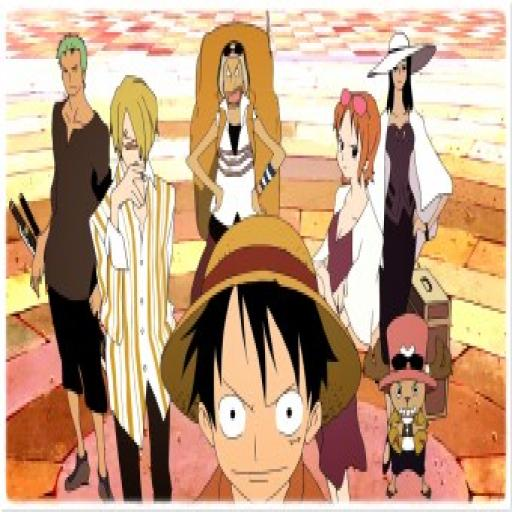Luffy: (154, 209, 360, 512)
Nami: (327, 86, 387, 193)
NicoRobin: (387, 24, 430, 115)
Usopp: (210, 35, 258, 118)
Zoro: (56, 29, 90, 103)
sanji: (107, 64, 160, 182)
